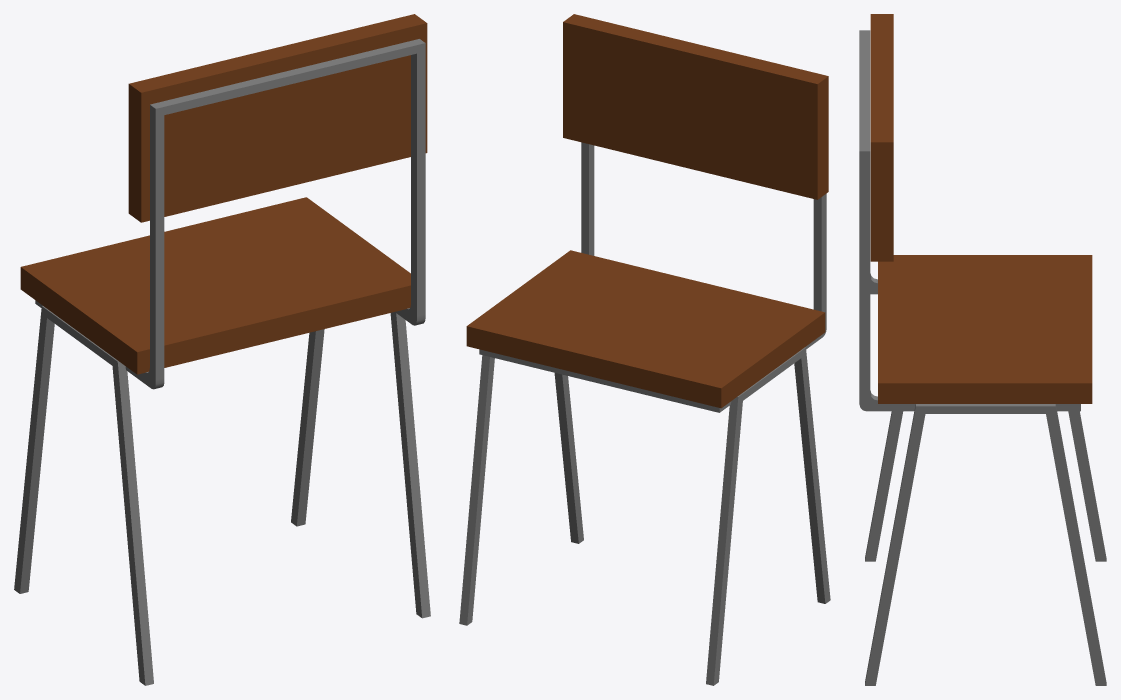
The model's file is chair.glb.
3 views of the same model, side by side, from view 1: azimuth 30°, elevation 25°; view 2: azimuth 150°, elevation 25°; view 3: azimuth 270°, elevation 25° (orthographic). The views are drawn at different scales.
Visible parts, largest first — view 1: pCube39.016; view 2: pCube39.016; view 3: pCube39.016.
Part boxes in pixels (<box>): pCube39.016: <box>14,14,430,685</box>; pCube39.016: <box>459,14,830,685</box>; pCube39.016: <box>859,14,1106,685</box>.
Bounding box in the file's own units: 0.3838 × 0.7565 × 0.3116.
